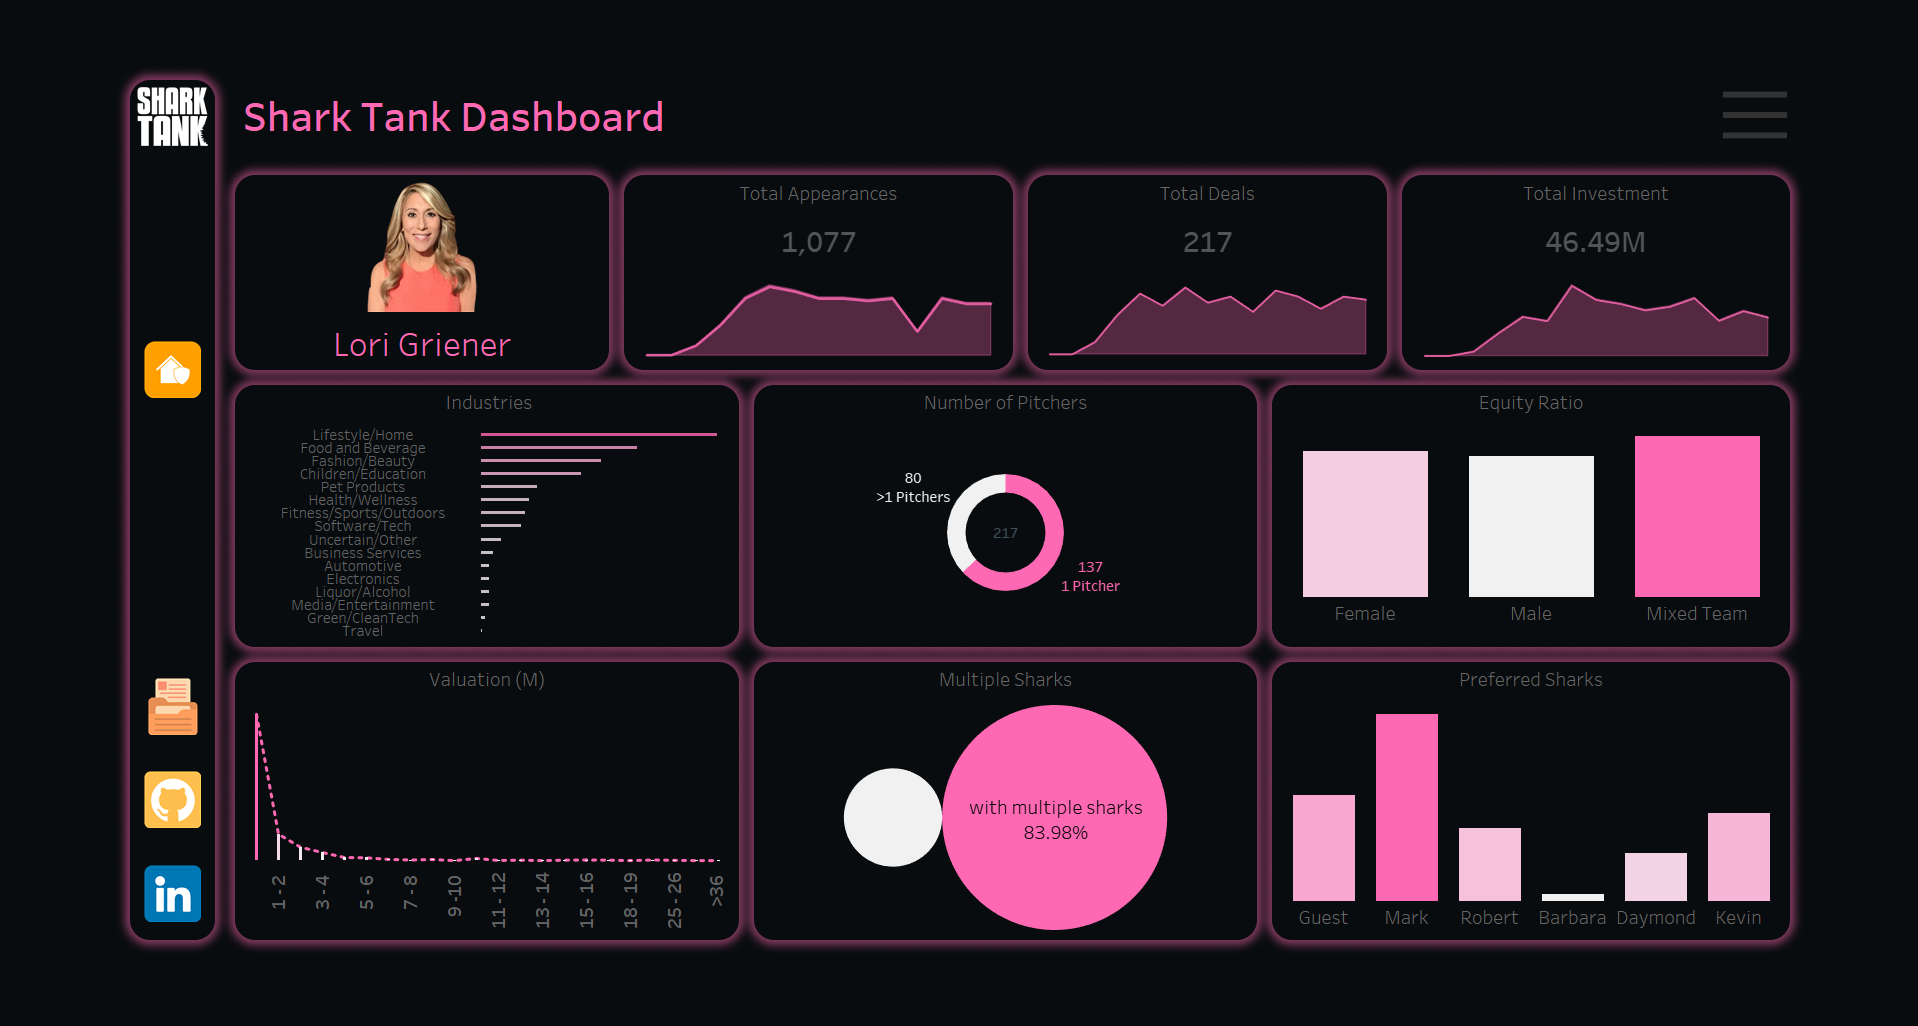

Layout of this report page (visuals, bound fields, positions):
{"tool":"tableau","page":{"name":"Lori Dashboard","canvas":[1700,900],"ordinal":3},"visuals":[{"type":"image","param":"Image/Lori Dashboard figma frame.png","box":[0,0,1700,900]},{"type":"image","param":"Image/Shark Tank Logo.png","box":[20,20,85,70]},{"type":"text","box":[125,20,1396,70]},{"type":"filter","title":"BAN Lori Appearance","param":"[federated.1ieom2h10l72pi1cs9e2u08v19sh].[none:industry:nk]","box":[1037,20,231,70]},{"type":"filter","title":"BAN Lori Appearance","param":"[federated.1ieom2h10l72pi1cs9e2u08v19sh].[none:season:ok]","box":[1268,20,253,70]},{"type":"blank","box":[1521,20,89,70]},{"type":"dashboard-object","box":[1610,20,70,70]},{"type":"blank","box":[20,90,85,156]},{"type":"image","param":"Image/Lori Griener.png","box":[125,115,374,142]},{"type":"text","box":[514,115,389,35]},{"type":"text","box":[918,115,359,35]},{"type":"text","box":[1292,115,388,35]},{"type":"worksheet","title":"BAN Lori Appearance","mark":"Text","box":[514,150,389,61]},{"type":"worksheet","title":"BAN Lori Deals","mark":"Text","box":[918,150,359,61]},{"type":"worksheet","title":"BAN Lori Total Investment","mark":"Text","box":[1292,150,388,61]},{"type":"worksheet","title":"Lori Appearances","mark":"Area","rows":["lori","lori"],"cols":["season"],"box":[514,211,389,99]},{"type":"worksheet","title":"Lori Deals","mark":"Line","rows":["Lori_invested","Lori_invested"],"cols":["season"],"box":[918,211,359,99]},{"type":"worksheet","title":"Lori Total Investment","mark":"Line","rows":["lori_inv_amt","lori_inv_amt"],"cols":["season"],"box":[1292,211,388,99]},{"type":"dashboard-object","box":[20,246,85,128]},{"type":"text","box":[125,257,374,53]},{"type":"text","box":[125,325,504,33]},{"type":"text","box":[644,325,503,33]},{"type":"text","box":[1162,325,518,33]},{"type":"worksheet","title":"Lori Top 5 Industries by No of Deals","mark":"Bar","rows":["industry"],"cols":["Lori_invested"],"box":[125,358,504,229]},{"type":"worksheet","title":"Lori Preferences for No of Pitchers","mark":"Pie","rows":["Calculation_1245245364195418118","Calculation_1245245364195418118"],"box":[644,358,503,229]},{"type":"worksheet","title":"Lori Preferences for Offered:Deal Ratio","mark":"Automatic","rows":["Calculation_2397322443195224066"],"cols":["gender"],"box":[1162,358,518,229]},{"type":"blank","box":[20,374,85,226]},{"type":"image","param":"Image/portfolio-folder.png","box":[20,600,85,93.3]},{"type":"text","box":[125,602,504,33]},{"type":"text","box":[644,602,503,33]},{"type":"text","box":[1162,602,518,33]},{"type":"worksheet","title":"Lori Mode of Deal Valuation (M)","mark":"Line","rows":["data_1A36516F31B94259A03002EB3918A69C","data_1A36516F31B94259A03002EB3918A69C"],"cols":["Deal Valuation (bin)"],"box":[125,635,504,245]},{"type":"worksheet","title":"Lori Preferences for Multi Shark Deals","mark":"Circle","box":[644,635,503,245]},{"type":"worksheet","title":"Lori Shark Pairing Preferences","mark":"Automatic","cols":["Lori_invested"],"box":[1162,635,518,245]},{"type":"image","param":"Image/github.png","box":[20,693.3,85,93.3]},{"type":"image","param":"Image/follow-me-on-linkedin-social-badge.png","box":[20,786.7,85,93.3]}]}

Visuals, with their boxes in screenshot pixels (x1, y1, x2, y2), scaled from the page's 1700x900 canvas onto the 1918x1026 screenshot:
image: [x1=0, y1=0, x2=1917, y2=1025]
image: [x1=23, y1=23, x2=118, y2=103]
text: [x1=141, y1=23, x2=1716, y2=103]
"BAN Lori Appearance" filter: [x1=1170, y1=23, x2=1431, y2=103]
"BAN Lori Appearance" filter: [x1=1431, y1=23, x2=1716, y2=103]
blank: [x1=1716, y1=23, x2=1816, y2=103]
dashboard-object: [x1=1816, y1=23, x2=1895, y2=103]
blank: [x1=23, y1=103, x2=118, y2=280]
image: [x1=141, y1=131, x2=563, y2=293]
text: [x1=580, y1=131, x2=1019, y2=171]
text: [x1=1036, y1=131, x2=1441, y2=171]
text: [x1=1458, y1=131, x2=1895, y2=171]
"BAN Lori Appearance" worksheet (Text marks): [x1=580, y1=171, x2=1019, y2=241]
"BAN Lori Deals" worksheet (Text marks): [x1=1036, y1=171, x2=1441, y2=241]
"BAN Lori Total Investment" worksheet (Text marks): [x1=1458, y1=171, x2=1895, y2=241]
"Lori Appearances" worksheet (Area marks): [x1=580, y1=241, x2=1019, y2=353]
"Lori Deals" worksheet (Line marks): [x1=1036, y1=241, x2=1441, y2=353]
"Lori Total Investment" worksheet (Line marks): [x1=1458, y1=241, x2=1895, y2=353]
dashboard-object: [x1=23, y1=280, x2=118, y2=426]
text: [x1=141, y1=293, x2=563, y2=353]
text: [x1=141, y1=370, x2=710, y2=408]
text: [x1=727, y1=370, x2=1294, y2=408]
text: [x1=1311, y1=370, x2=1895, y2=408]
"Lori Top 5 Industries by No of Deals" worksheet (Bar marks): [x1=141, y1=408, x2=710, y2=669]
"Lori Preferences for No of Pitchers" worksheet (Pie marks): [x1=727, y1=408, x2=1294, y2=669]
"Lori Preferences for Offered:Deal Ratio" worksheet: [x1=1311, y1=408, x2=1895, y2=669]
blank: [x1=23, y1=426, x2=118, y2=684]
image: [x1=23, y1=684, x2=118, y2=790]
text: [x1=141, y1=686, x2=710, y2=724]
text: [x1=727, y1=686, x2=1294, y2=724]
text: [x1=1311, y1=686, x2=1895, y2=724]
"Lori Mode of Deal Valuation (M)" worksheet (Line marks): [x1=141, y1=724, x2=710, y2=1003]
"Lori Preferences for Multi Shark Deals" worksheet (Circle marks): [x1=727, y1=724, x2=1294, y2=1003]
"Lori Shark Pairing Preferences" worksheet: [x1=1311, y1=724, x2=1895, y2=1003]
image: [x1=23, y1=790, x2=118, y2=897]
image: [x1=23, y1=897, x2=118, y2=1003]
